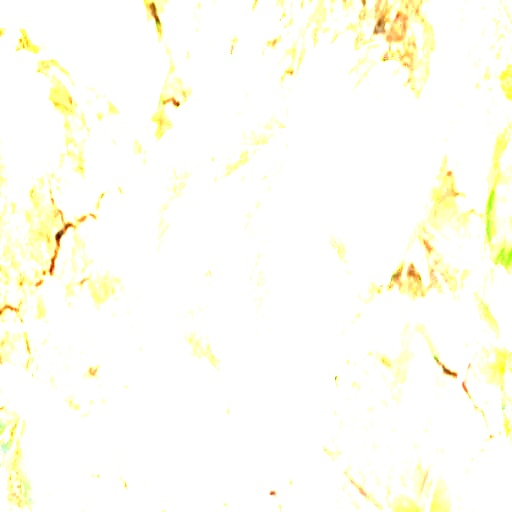Leaf Spot: (206, 135, 347, 485), (289, 32, 447, 286), (145, 44, 288, 273), (0, 32, 56, 187), (362, 285, 417, 351)
